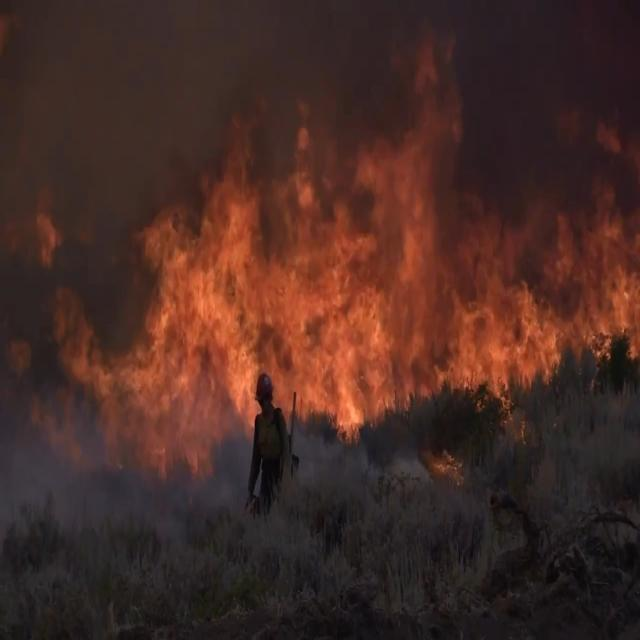Fire: (7, 36, 640, 488)
